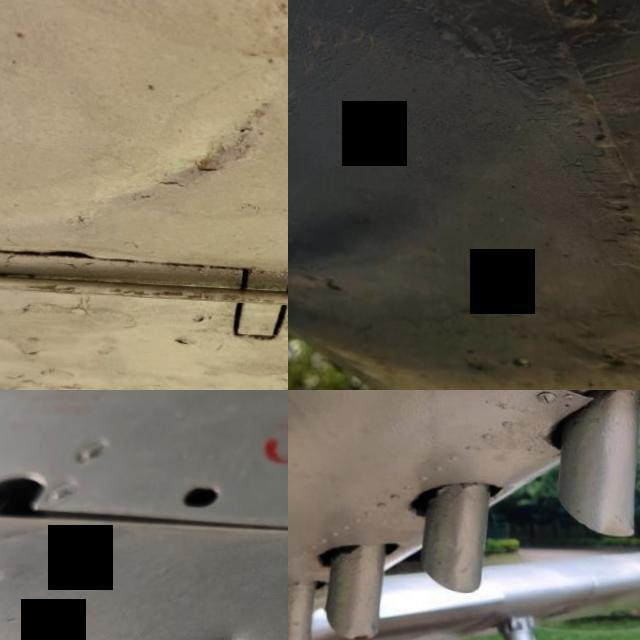Dent: (61, 19, 288, 242), (288, 151, 439, 339), (202, 616, 251, 640)
